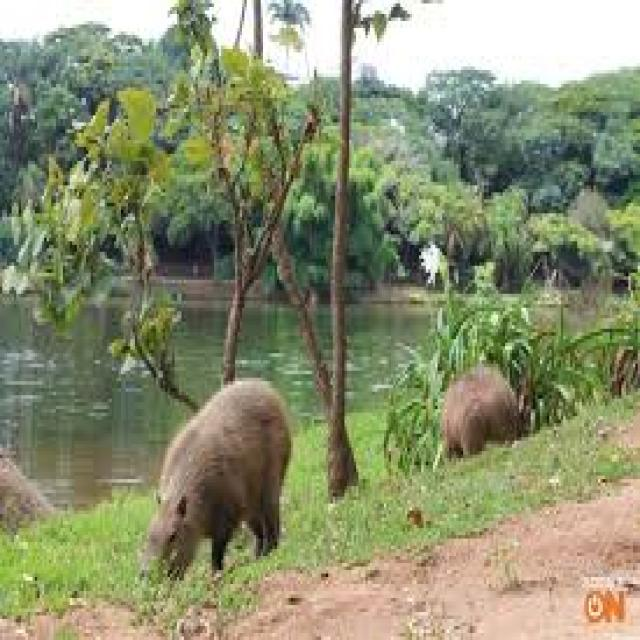capy: (146, 374, 292, 576), (439, 370, 524, 458)
